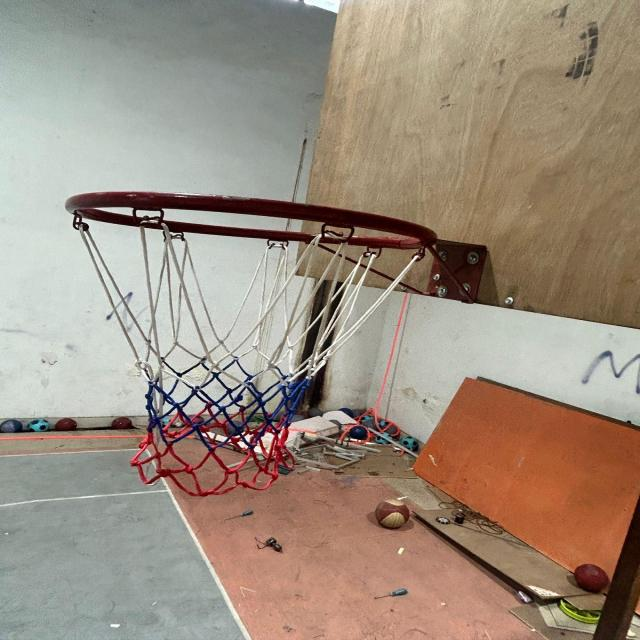hoop: (51, 159, 500, 502)
